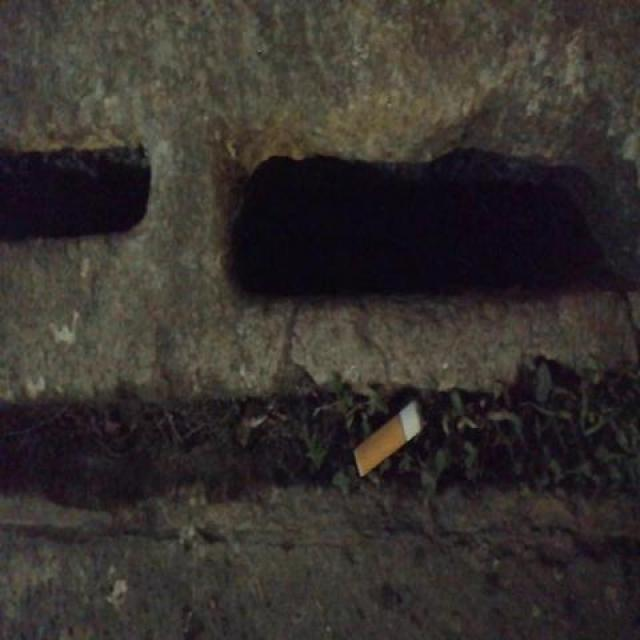non-organic waste: (347, 396, 433, 487)
